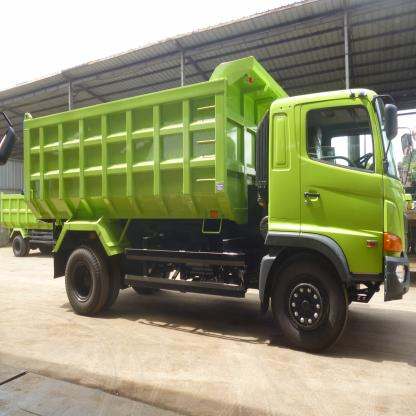dump_truck: (14, 40, 416, 361)
